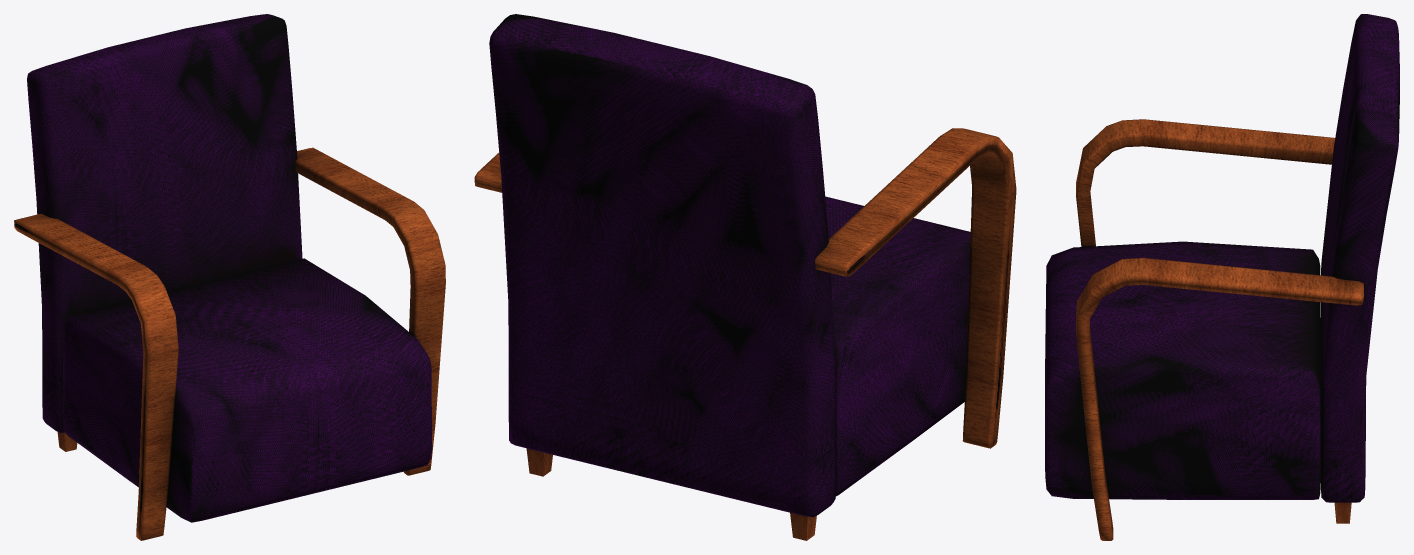
The model's file is Phoebe Arm Chair.fbx.
3 views of the same model, side by side, from view 1: azimuth 30°, elevation 25°; view 2: azimuth 150°, elevation 25°; view 3: azimuth 270°, elevation 25° (orthographic). The views are drawn at different scales.
Visible parts, largest first — view 1: Phoebe Arm Chair; view 2: Phoebe Arm Chair; view 3: Phoebe Arm Chair.
Boxes of the visible parts, bbox=[...] form: Phoebe Arm Chair: bbox=[14, 14, 445, 540]; Phoebe Arm Chair: bbox=[474, 14, 1016, 540]; Phoebe Arm Chair: bbox=[1045, 14, 1399, 540].
Bounding box in the file's own units: 0.9907 × 1.19 × 0.9646.
Materials: 1 (1 with a texture image).
